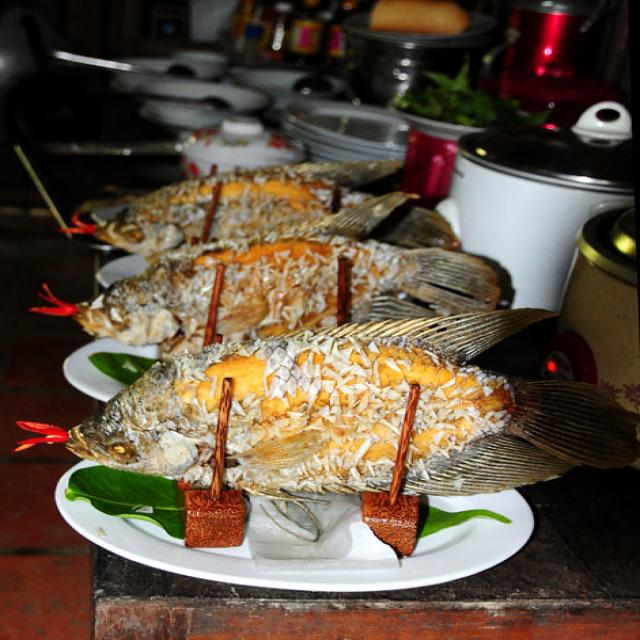Wet Waste: (64, 307, 640, 495), (77, 230, 513, 342), (98, 154, 410, 250)
